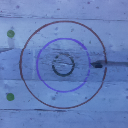Axe Tip: (90, 63, 103, 66)
